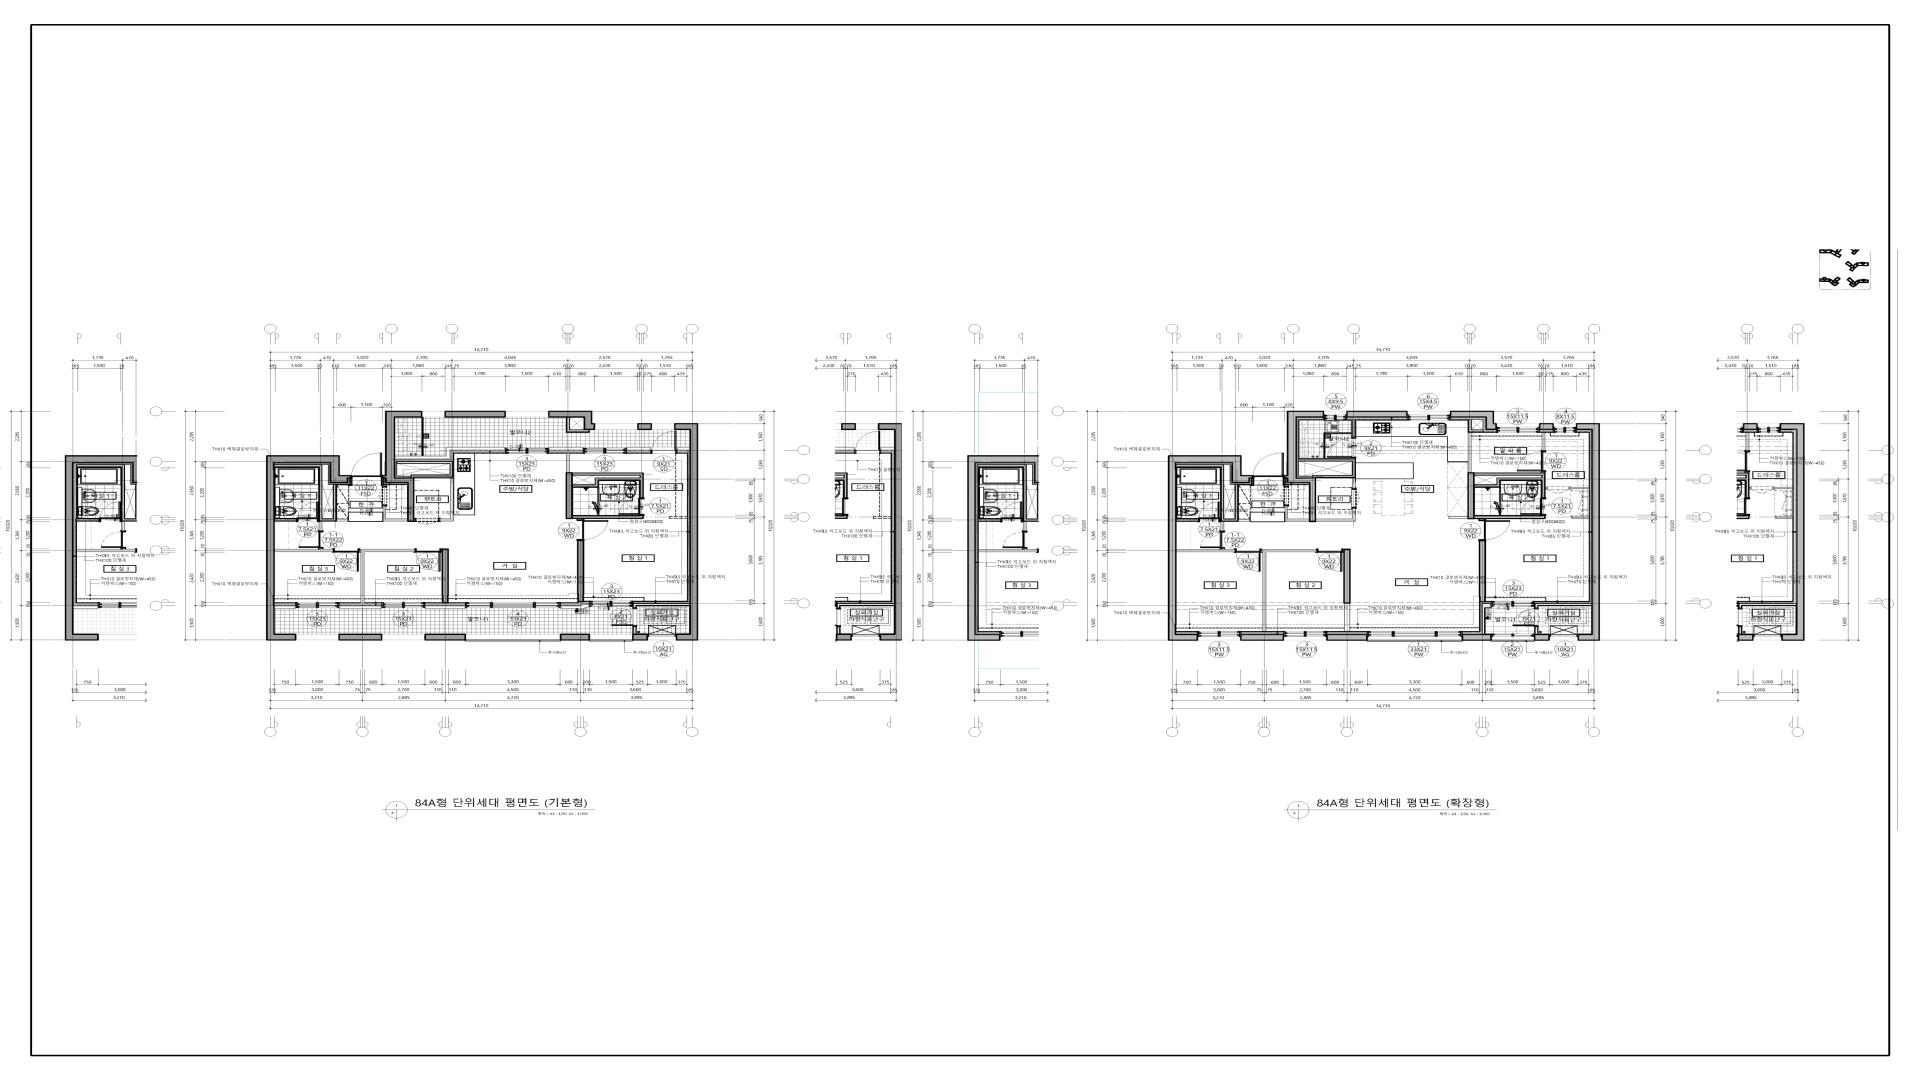door: (1253, 452, 1284, 487), (351, 452, 382, 487), (1478, 520, 1510, 541), (576, 520, 608, 541), (1316, 549, 1344, 572), (1327, 436, 1357, 458), (1516, 451, 1547, 472), (1236, 549, 1262, 572), (334, 549, 360, 572), (415, 549, 442, 572), (651, 431, 678, 454), (1520, 497, 1547, 516), (618, 497, 645, 516), (1197, 501, 1220, 522), (1200, 531, 1225, 550), (297, 501, 318, 522), (298, 531, 323, 549), (414, 518, 439, 525), (1352, 488, 1360, 508), (1545, 487, 1569, 493)
wall: (266, 455, 351, 641), (1168, 455, 1253, 641), (674, 423, 699, 641), (1576, 423, 1600, 641), (274, 464, 348, 531), (1176, 464, 1250, 531), (1262, 550, 1316, 632), (382, 411, 422, 522), (1284, 411, 1324, 522), (397, 462, 454, 521), (360, 549, 415, 603), (1474, 472, 1545, 497), (572, 472, 644, 497), (1299, 458, 1356, 488), (396, 447, 505, 459), (549, 411, 595, 430), (1451, 411, 1497, 430), (1468, 419, 1484, 472), (1316, 508, 1356, 522), (1478, 541, 1486, 601), (444, 411, 506, 418), (1346, 411, 1408, 418), (578, 541, 584, 601), (1284, 506, 1309, 522), (1344, 549, 1350, 604), (382, 506, 407, 521), (442, 549, 448, 603), (566, 418, 589, 433), (566, 472, 572, 520), (1468, 472, 1474, 520), (1535, 603, 1592, 608), (633, 603, 690, 608), (1482, 603, 1491, 634), (339, 634, 382, 641), (1241, 634, 1284, 641), (1474, 516, 1545, 520), (572, 516, 644, 520), (425, 634, 467, 641), (1327, 634, 1367, 641), (274, 549, 334, 553), (1461, 634, 1491, 641), (560, 634, 589, 641), (1344, 604, 1350, 632), (339, 605, 382, 609), (425, 605, 465, 609), (1176, 550, 1236, 553), (560, 604, 589, 609), (549, 447, 583, 451), (632, 634, 649, 641), (637, 423, 653, 430), (1534, 634, 1549, 641), (626, 447, 651, 451), (1539, 423, 1553, 430), (274, 518, 297, 522), (1176, 518, 1199, 522), (274, 605, 295, 609), (1542, 433, 1545, 451), (566, 454, 570, 472), (1352, 419, 1356, 436), (1569, 487, 1589, 489), (678, 447, 690, 451), (1535, 626, 1539, 634), (633, 626, 637, 634), (1449, 517, 1468, 518), (1572, 517, 1589, 518), (382, 485, 386, 487)
window: (1367, 630, 1461, 642), (467, 634, 560, 641), (465, 603, 560, 608), (1408, 411, 1451, 421), (1497, 423, 1539, 433), (1199, 630, 1241, 640), (1284, 630, 1327, 640), (1491, 633, 1534, 642), (596, 423, 637, 430), (591, 634, 632, 641), (295, 603, 339, 608), (589, 601, 633, 607), (505, 448, 549, 454), (583, 448, 626, 454), (1491, 601, 1535, 607), (506, 411, 549, 417), (297, 634, 339, 640), (382, 634, 425, 640), (382, 603, 425, 608), (1324, 411, 1346, 421), (1553, 423, 1576, 433), (649, 634, 676, 640), (1549, 634, 1577, 640), (653, 423, 674, 430), (422, 411, 444, 417)
